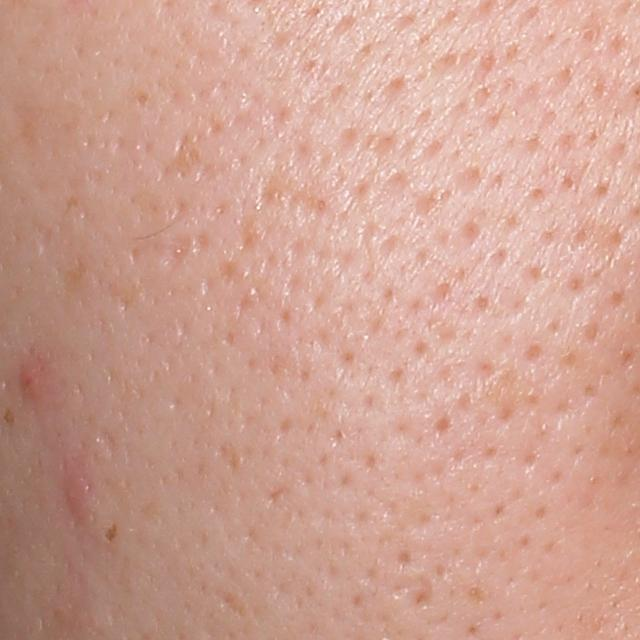atrophic_scar: (254, 171, 322, 217), (154, 132, 203, 184), (158, 228, 192, 273), (212, 587, 249, 619), (101, 428, 119, 457)
papule: (14, 368, 42, 399), (62, 481, 85, 514)
